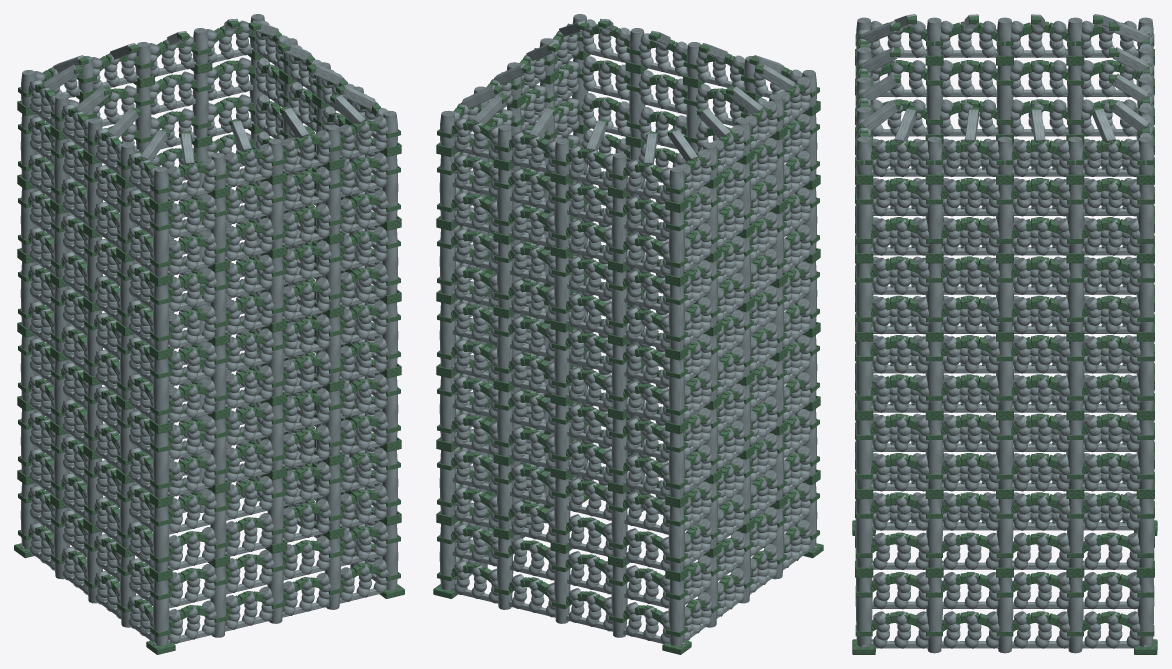
3 views of the same model, side by side, from view 1: azimuth 30°, elevation 25°; view 2: azimuth 150°, elevation 25°; view 3: azimuth 270°, elevation 25° (orthographic). The views are drawn at different scales.
Visible parts, largest first — view 1: Tier 2 side 0 post 0, Tier 4 side 0 post 0, Tier 5 side 0 post 0, Tier 1 side 0 post 0, Tier 3 side 0 post 0, Tier 0 side 0 post 0, Tier 5 side 2 post 1, Tier 5 side 2 post 2, Tier 0 side 0 post 1, Tier 0 side 0 post 2, Tier 0 side 0 post 3, Tier 3 side 0 post 1 (+44 smaller); view 2: Tier 0 side 2 post 3, Tier 5 side 3 post 0, Tier 0 side 2 post 2, Tier 0 side 3 post 0, Tier 1 side 3 post 0, Tier 4 side 3 post 0, Tier 2 side 3 post 0, Tier 3 side 3 post 0, Tier 0 side 2 post 1, Tier 1 side 2 post 3, Tier 2 side 2 post 3, Tier 3 side 2 post 3 (+20 smaller); view 3: Tier 0 side 1 post 2, Tier 0 side 1 post 3, Tier 3 side 1 post 0, Tier 5 side 1 post 0, Tier 0 side 1 post 1, Tier 0 side 1 post 0, Tier 2 side 1 post 0, Tier 4 side 1 post 0, Tier 1 side 1 post 0, Tier 3 side 2 post 0, Tier 5 side 2 post 0, Tier 5 side 3 post 2 (+34 smaller).
Boxes of the visible parts, x1,y1,x2,y2 form: Tier 2 side 0 post 0: [153, 432, 169, 498]; Tier 4 side 0 post 0: [153, 284, 169, 350]; Tier 5 side 0 post 0: [153, 210, 169, 277]; Tier 1 side 0 post 0: [153, 506, 169, 572]; Tier 3 side 0 post 0: [153, 358, 169, 424]; Tier 0 side 0 post 0: [153, 579, 169, 645]; Tier 5 side 2 post 1: [192, 72, 208, 138]; Tier 5 side 2 post 2: [135, 86, 151, 152]; Tier 0 side 0 post 1: [210, 566, 226, 637]; Tier 0 side 0 post 2: [267, 552, 283, 623]; Tier 0 side 0 post 3: [324, 538, 340, 609]; Tier 3 side 0 post 1: [210, 344, 226, 410]; Tier 0 side 2 post 3: [611, 566, 627, 637]; Tier 5 side 3 post 0: [668, 210, 684, 277]; Tier 0 side 2 post 2: [554, 551, 570, 623]; Tier 0 side 3 post 0: [668, 579, 684, 645]; Tier 1 side 3 post 0: [668, 506, 684, 572]; Tier 4 side 3 post 0: [668, 284, 684, 350]; Tier 2 side 3 post 0: [668, 432, 684, 498]; Tier 3 side 3 post 0: [668, 358, 684, 424]; Tier 0 side 2 post 1: [497, 537, 513, 609]; Tier 1 side 2 post 3: [611, 492, 627, 558]; Tier 2 side 2 post 3: [611, 418, 627, 484]; Tier 3 side 2 post 3: [611, 344, 627, 410]; Tier 0 side 1 post 2: [996, 577, 1013, 653]; Tier 0 side 1 post 3: [1067, 577, 1083, 653]; Tier 3 side 1 post 0: [856, 341, 872, 410]; Tier 5 side 1 post 0: [856, 184, 872, 253]; Tier 0 side 1 post 1: [926, 577, 942, 653]; Tier 0 side 1 post 0: [856, 577, 872, 646]; Tier 2 side 1 post 0: [856, 420, 872, 489]; Tier 4 side 1 post 0: [856, 263, 872, 331]; Tier 1 side 1 post 0: [856, 499, 872, 567]; Tier 3 side 2 post 0: [1137, 341, 1153, 410]; Tier 5 side 2 post 0: [1137, 184, 1153, 253]; Tier 5 side 3 post 2: [996, 65, 1013, 134].
Bounding box in the file's own units: 1.95 × 3.73 × 1.95.
2 materials, 2 textured.
